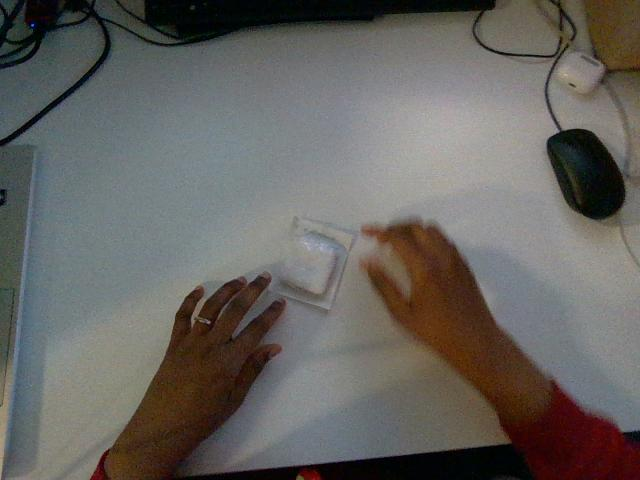gauze: (272, 217, 356, 309)
